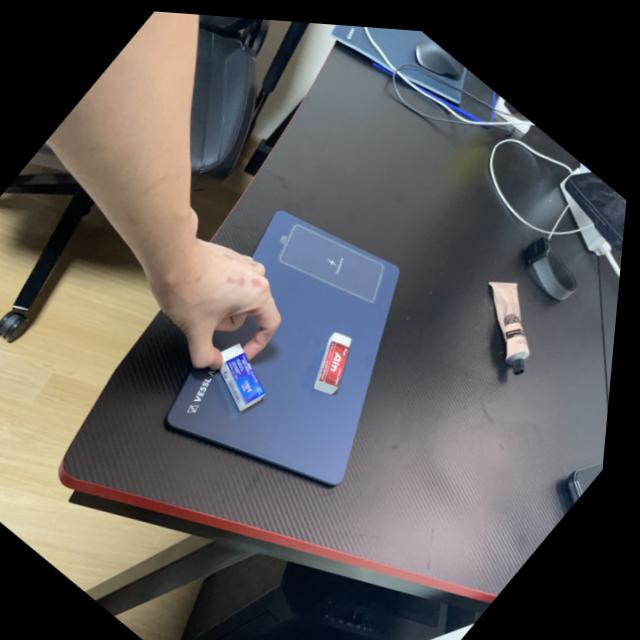blue: (195, 325, 295, 423)
red: (298, 314, 381, 402)
